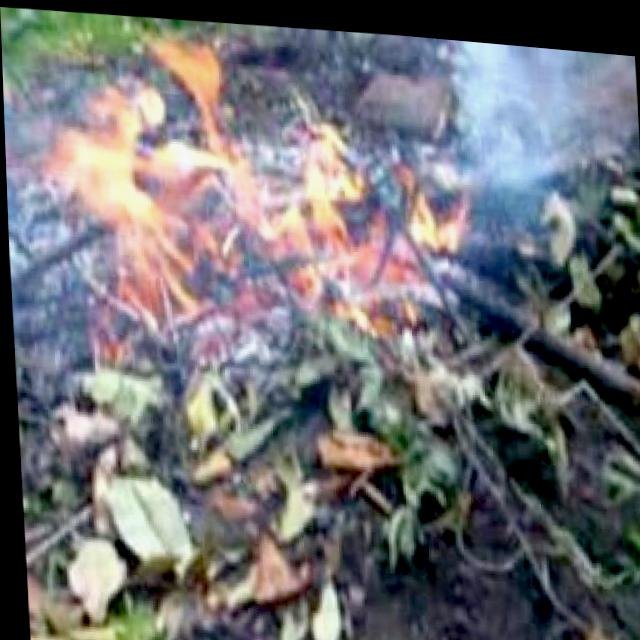Fire: (31, 22, 416, 327)
